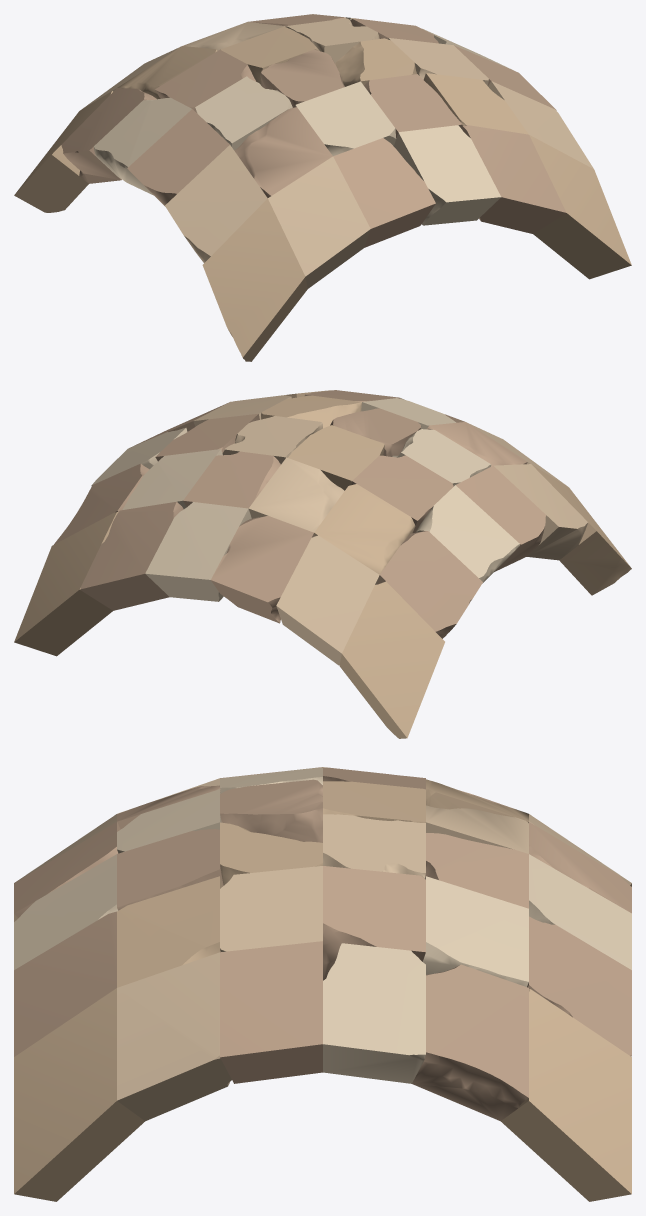
Rendered from frahan-pendentive-vault.glb.
3 renders of one model, top to bottom at view 1: azimuth 30°, elevation 25°; view 2: azimuth 150°, elevation 25°; view 3: azimuth 270°, elevation 25°, orthographic. The views are drawn at different scales.
Parts seen in each view (by area): view 1: rubble_V00, rubble_V06, rubble_V30, rubble_V18, rubble_V24, rubble_V12, rubble_V01, rubble_V07, rubble_V02, rubble_V13, rubble_V03, rubble_V08 (+16 smaller); view 2: rubble_V05, rubble_V11, rubble_V35, rubble_V17, rubble_V23, rubble_V29, rubble_V04, rubble_V10, rubble_V03, rubble_V16, rubble_V02, rubble_V09 (+16 smaller); view 3: rubble_V35, rubble_V30, rubble_V31, rubble_V34, rubble_V32, rubble_V33, rubble_V24, rubble_V28, rubble_V29, rubble_V27, rubble_V25, rubble_V26 (+16 smaller).
Boxes of the visible parts, x1=… form: rubble_V00: x1=202, y1=198, x2=307, y2=361; rubble_V06: x1=268, y1=156, x2=370, y2=288; rubble_V30: x1=529, y1=135, x2=631, y2=279; rubble_V18: x1=394, y1=125, x2=500, y2=225; rubble_V24: x1=461, y1=125, x2=566, y2=233; rubble_V12: x1=333, y1=138, x2=435, y2=247; rubble_V01: x1=165, y1=145, x2=267, y2=262; rubble_V07: x1=234, y1=107, x2=332, y2=197; rubble_V02: x1=127, y1=109, x2=229, y2=206; rubble_V13: x1=295, y1=81, x2=396, y2=156; rubble_V03: x1=93, y1=97, x2=191, y2=195; rubble_V08: x1=195, y1=76, x2=292, y2=150; rubble_V05: x1=339, y1=581, x2=444, y2=738; rubble_V11: x1=276, y1=535, x2=379, y2=665; rubble_V35: x1=14, y1=512, x2=118, y2=656; rubble_V17: x1=211, y1=516, x2=314, y2=623; rubble_V23: x1=145, y1=502, x2=251, y2=601; rubble_V29: x1=80, y1=501, x2=183, y2=610; rubble_V04: x1=376, y1=531, x2=482, y2=638; rubble_V10: x1=314, y1=484, x2=415, y2=574; rubble_V03: x1=416, y1=485, x2=519, y2=583; rubble_V16: x1=248, y1=457, x2=344, y2=532; rubble_V02: x1=456, y1=465, x2=546, y2=571; rubble_V09: x1=351, y1=455, x2=453, y2=533; rubble_V35: x1=500, y1=989, x2=631, y2=1201; rubble_V30: x1=14, y1=988, x2=145, y2=1201; rubble_V31: x1=117, y1=952, x2=231, y2=1120; rubble_V34: x1=412, y1=964, x2=528, y2=1120; rubble_V32: x1=220, y1=941, x2=322, y2=1083; rubble_V33: x1=323, y1=943, x2=425, y2=1083; rubble_V24: x1=14, y1=911, x2=116, y2=1056; rubble_V28: x1=422, y1=876, x2=528, y2=986; rubble_V29: x1=527, y1=916, x2=631, y2=1056; rubble_V27: x1=323, y1=866, x2=425, y2=980; rubble_V25: x1=117, y1=876, x2=222, y2=987; rubble_V26: x1=220, y1=866, x2=322, y2=951.
Size of the model in its own units: 3.71 by 1.83 by 3.71.
